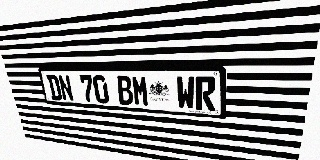0: (92, 75, 109, 104)
7: (79, 75, 96, 103)
B: (116, 75, 134, 105)
D: (46, 75, 63, 101)
M: (131, 76, 150, 107)
N: (57, 75, 74, 101)
R: (195, 76, 216, 111)
W: (176, 76, 195, 110)
